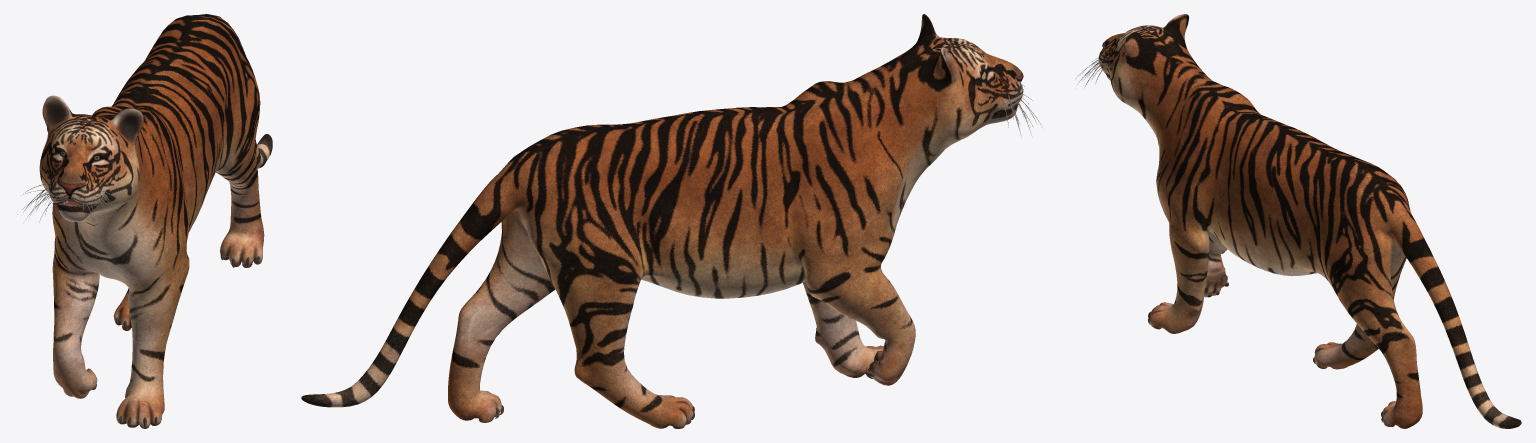
The picture shows the model from 3 angles, left to right: view 1: azimuth 30°, elevation 25°; view 2: azimuth 150°, elevation 25°; view 3: azimuth 270°, elevation 25°; orthographic projection. The views are drawn at different scales.
Parts seen in each view (by area): view 1: node_id30_1; view 2: node_id30_1; view 3: node_id30_1.
Part boxes in pixels (x1,y1,x2,y2): node_id30_1: (17, 14, 272, 428); node_id30_1: (301, 14, 1042, 428); node_id30_1: (1076, 14, 1521, 428).
Size of the model in its own units: 0.766 by 0.512 by 0.7406.
1 material, 1 textured.
